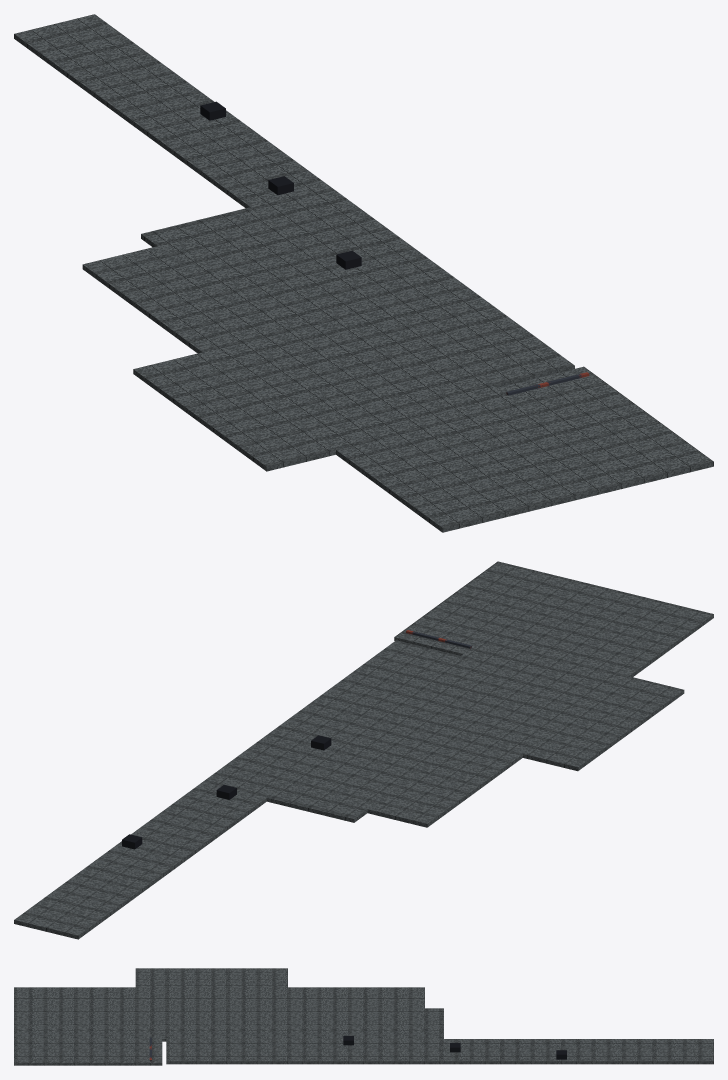
The model's file is Maribor_Roofs.fbx.
3 views of the same model, one above another, from view 1: azimuth 30°, elevation 25°; view 2: azimuth 150°, elevation 25°; view 3: azimuth 270°, elevation 25° (orthographic). The views are drawn at different scales.
Visible parts, largest first — view 1: PL_C_Roof_262, PL_C_Roof_265, PL_C_Roof_263, PL_C_Roof_264; view 2: PL_C_Roof_262, PL_C_Roof_265, PL_C_Roof_263, PL_C_Roof_264; view 3: PL_C_Roof_265, PL_C_Roof_262, PL_C_Roof_263, PL_C_Roof_264.
Boxes of the visible parts, left/top/right/bottom form: PL_C_Roof_262: left=141, top=101, right=627, bottom=514; PL_C_Roof_265: left=14, top=14, right=574, bottom=387; PL_C_Roof_263: left=82, top=246, right=517, bottom=532; PL_C_Roof_264: left=133, top=352, right=713, bottom=487; PL_C_Roof_262: left=122, top=578, right=653, bottom=849; PL_C_Roof_265: left=14, top=640, right=459, bottom=939; PL_C_Roof_263: left=311, top=599, right=713, bottom=827; PL_C_Roof_264: left=394, top=561, right=684, bottom=771; PL_C_Roof_265: left=166, top=1039, right=713, bottom=1064; PL_C_Roof_262: left=14, top=1008, right=566, bottom=1059; PL_C_Roof_263: left=14, top=987, right=424, bottom=1045; PL_C_Roof_264: left=14, top=968, right=287, bottom=1065.
Bounding box in the file's own units: 29.5 × 1.1 × 92.
